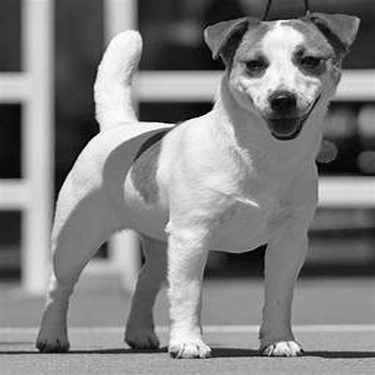dog: (24, 8, 370, 358)
